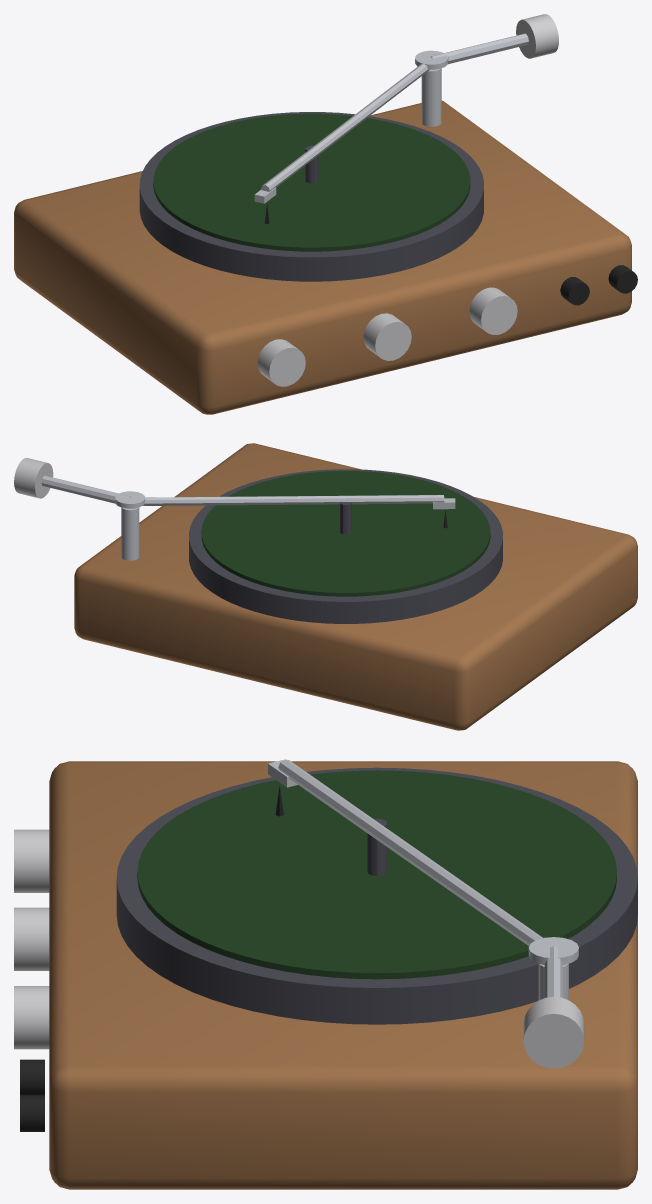
The model's file is turntable.glb.
3 views of the same model, one above another, from view 1: azimuth 30°, elevation 25°; view 2: azimuth 150°, elevation 25°; view 3: azimuth 270°, elevation 25° (orthographic). The views are drawn at different scales.
Parts seen in each view (by area): view 1: Body, FeltMat, Platter, ArmLong, Knob_1, Knob_2, Knob_3, Counterweight, TonearmPost, ArmShort, Button_1, Button_2; view 2: Body, FeltMat, Platter, ArmLong, Counterweight, TonearmPost, ArmShort, PivotCap; view 3: Body, FeltMat, Platter, ArmLong, Counterweight, Knob_1, Knob_2, Knob_3, PivotCap, Button_2, Button_1, ArmShort (+1 smaller).
Part boxes in pixels (x1,y1,x2,y2): Body: [14, 100, 631, 414]; FeltMat: [153, 113, 470, 251]; Platter: [139, 112, 483, 281]; ArmLong: [261, 63, 429, 191]; Knob_1: [257, 339, 305, 386]; Knob_2: [363, 313, 411, 360]; Knob_3: [469, 287, 517, 334]; Counterweight: [516, 14, 558, 58]; TonearmPost: [421, 68, 441, 126]; ArmShort: [430, 33, 528, 64]; Button_1: [560, 277, 589, 305]; Button_2: [608, 265, 637, 293]; Body: [74, 443, 637, 730]; FeltMat: [201, 471, 490, 596]; Platter: [189, 469, 502, 623]; ArmLong: [143, 495, 444, 505]; Counterweight: [14, 458, 53, 498]; TonearmPost: [121, 507, 139, 560]; ArmShort: [41, 475, 130, 503]; PivotCap: [115, 491, 145, 508]; Body: [49, 761, 637, 1189]; FeltMat: [137, 770, 616, 979]; Platter: [116, 767, 637, 1024]; ArmLong: [278, 759, 542, 945]; Counterweight: [523, 996, 584, 1068]; Knob_1: [14, 829, 49, 892]; Knob_2: [14, 907, 49, 970]; Knob_3: [14, 986, 49, 1049]; PivotCap: [528, 937, 578, 965]; Button_2: [20, 1095, 44, 1131]; Button_1: [20, 1059, 44, 1094]; ArmShort: [544, 946, 562, 997].
Bounding box in the file's own units: 0.532 × 0.158 × 0.371.
